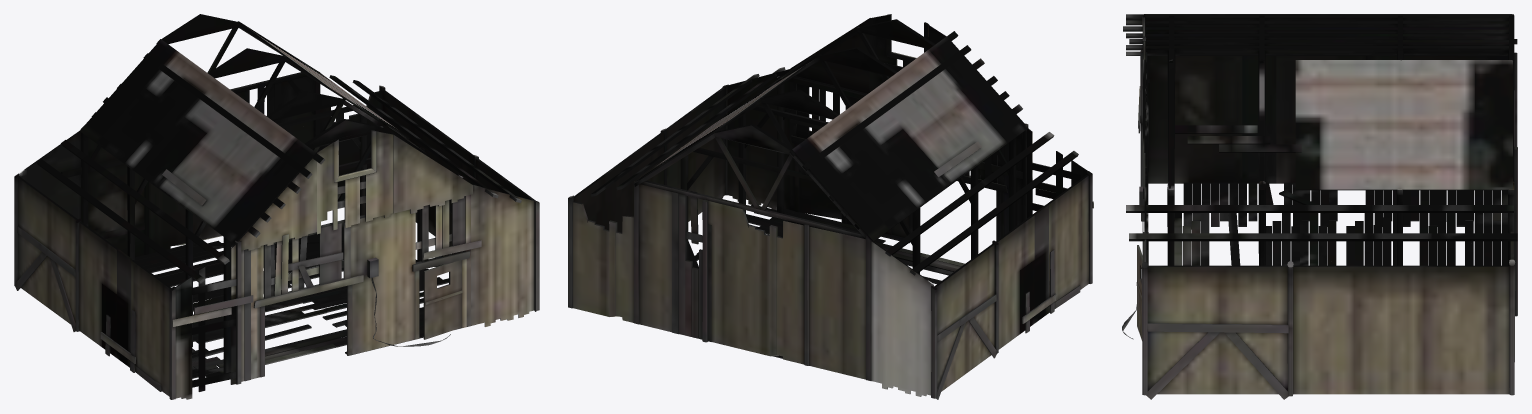
The model's file is old-barn.zfix-v1.lod1.glb.
3 views of the same model, side by side, from view 1: azimuth 30°, elevation 25°; view 2: azimuth 150°, elevation 25°; view 3: azimuth 270°, elevation 25° (orthographic). The views are drawn at different scales.
Visible parts, largest first — view 1: Object002_Object002_mtl_0; view 2: Object002_Object002_mtl_0; view 3: Object002_Object002_mtl_0.
Boxes of the visible parts, x1,y1,x2,y2 form: Object002_Object002_mtl_0: [14, 14, 539, 399]; Object002_Object002_mtl_0: [568, 14, 1093, 399]; Object002_Object002_mtl_0: [1122, 14, 1517, 399].
Size of the model in its own units: 14.67 by 8.76 by 11.44.
Materials: 1 (1 with a texture image).
